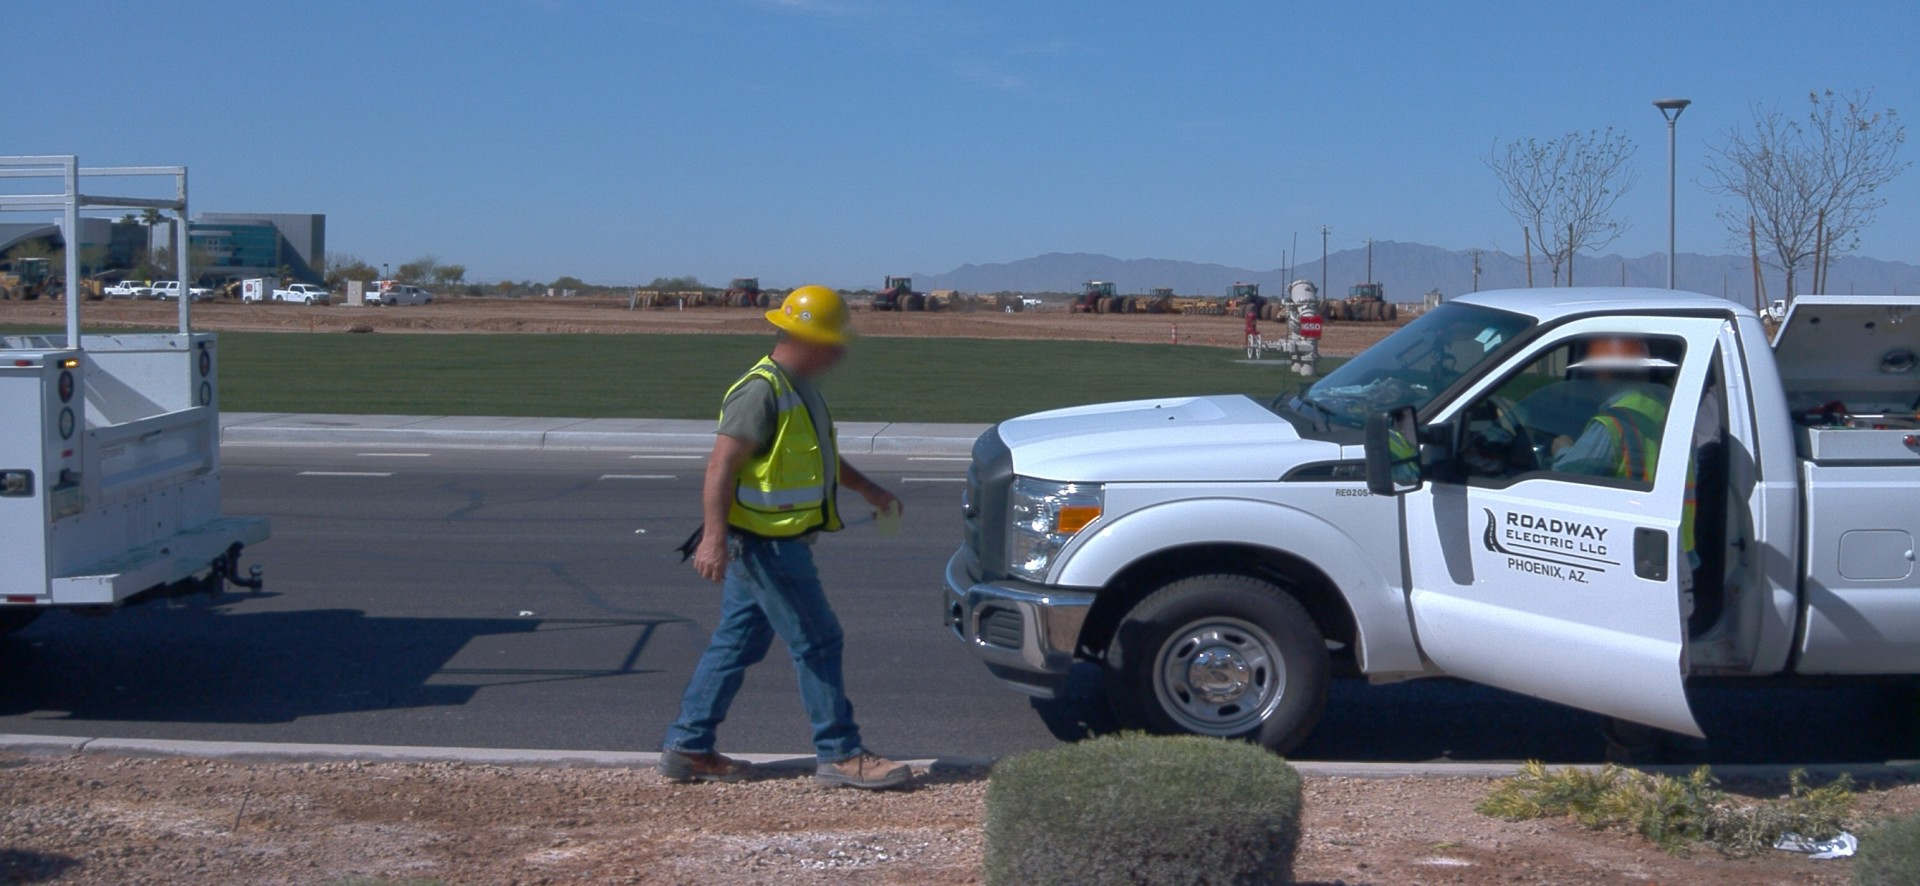TYPE_PEDESTRIAN: (656, 280, 915, 797), (1533, 331, 1702, 763)
TYPE_VEHICLE: (940, 290, 1920, 765), (0, 149, 271, 618), (1, 255, 107, 302), (1066, 278, 1134, 318), (867, 276, 935, 315), (1334, 279, 1397, 321), (1212, 277, 1272, 317), (719, 279, 771, 312), (150, 280, 216, 304), (1130, 283, 1180, 314), (268, 282, 332, 306), (366, 285, 434, 306), (1271, 302, 1336, 322), (101, 279, 155, 303), (236, 282, 283, 307), (634, 291, 705, 307), (101, 284, 151, 304), (1759, 298, 1786, 326), (218, 283, 252, 303), (1014, 296, 1038, 310)
